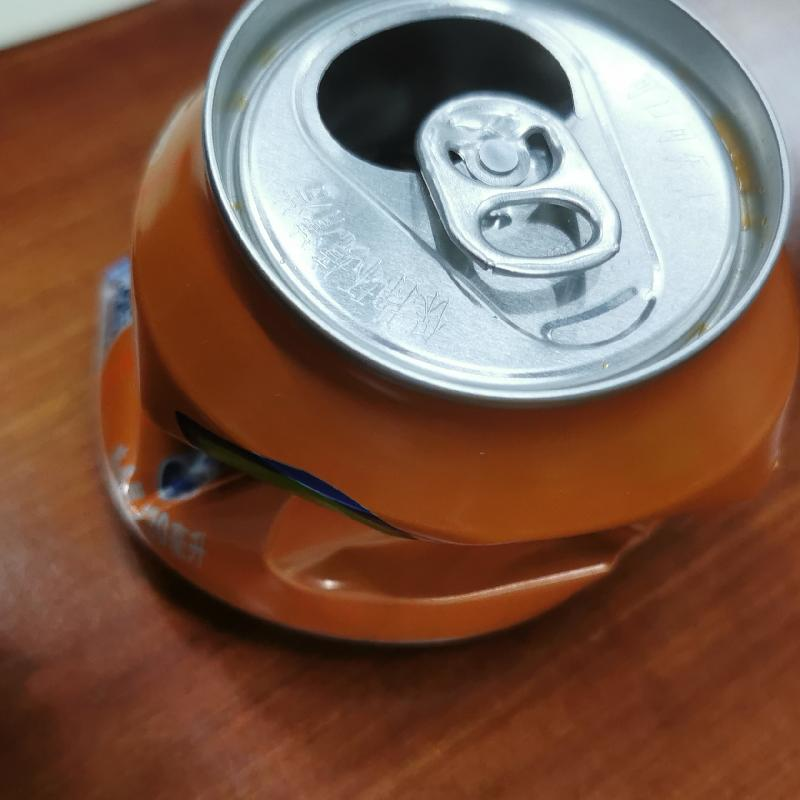cans: (90, 0, 800, 651)
